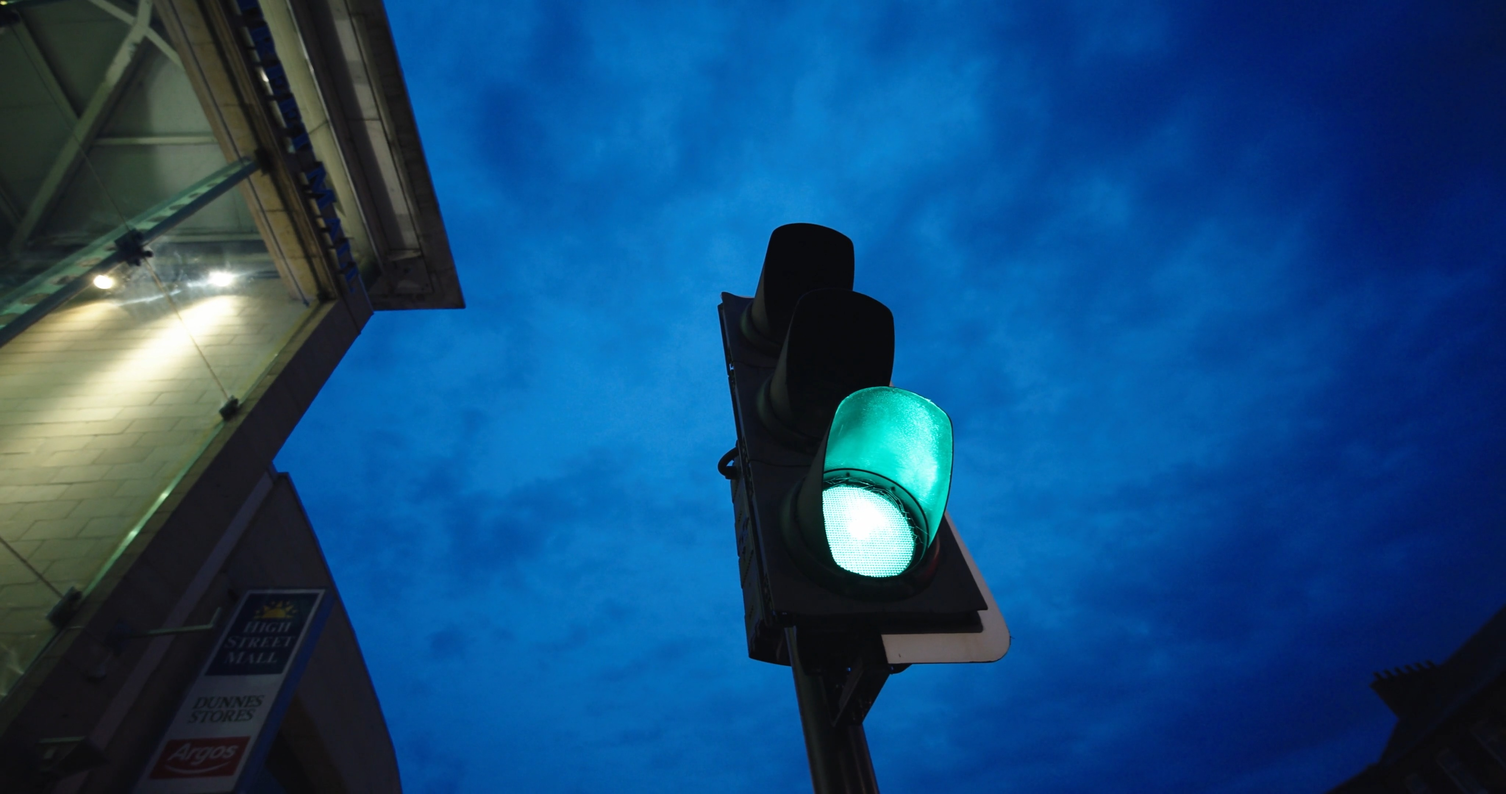green traffic light: (647, 204, 1052, 690)
